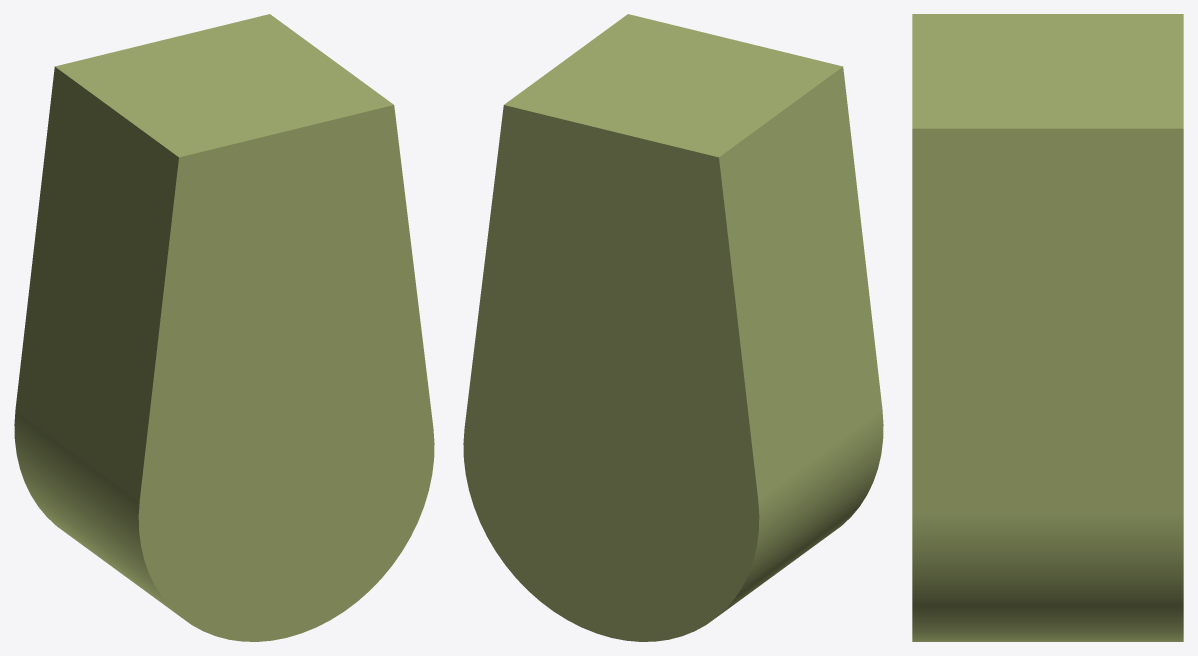
The model's file is step_07.glb.
3 views of the same model, side by side, from view 1: azimuth 30°, elevation 25°; view 2: azimuth 150°, elevation 25°; view 3: azimuth 270°, elevation 25° (orthographic). The views are drawn at different scales.
Parts seen in each view (by area): view 1: part__swivel; view 2: part__swivel; view 3: part__swivel.
Boxes of the visible parts, <box> form: part__swivel: <box>14,14,434,641</box>; part__swivel: <box>463,14,883,641</box>; part__swivel: <box>912,14,1183,641</box>.
Bounding box in the file's own units: 43.99 × 72 × 32.
